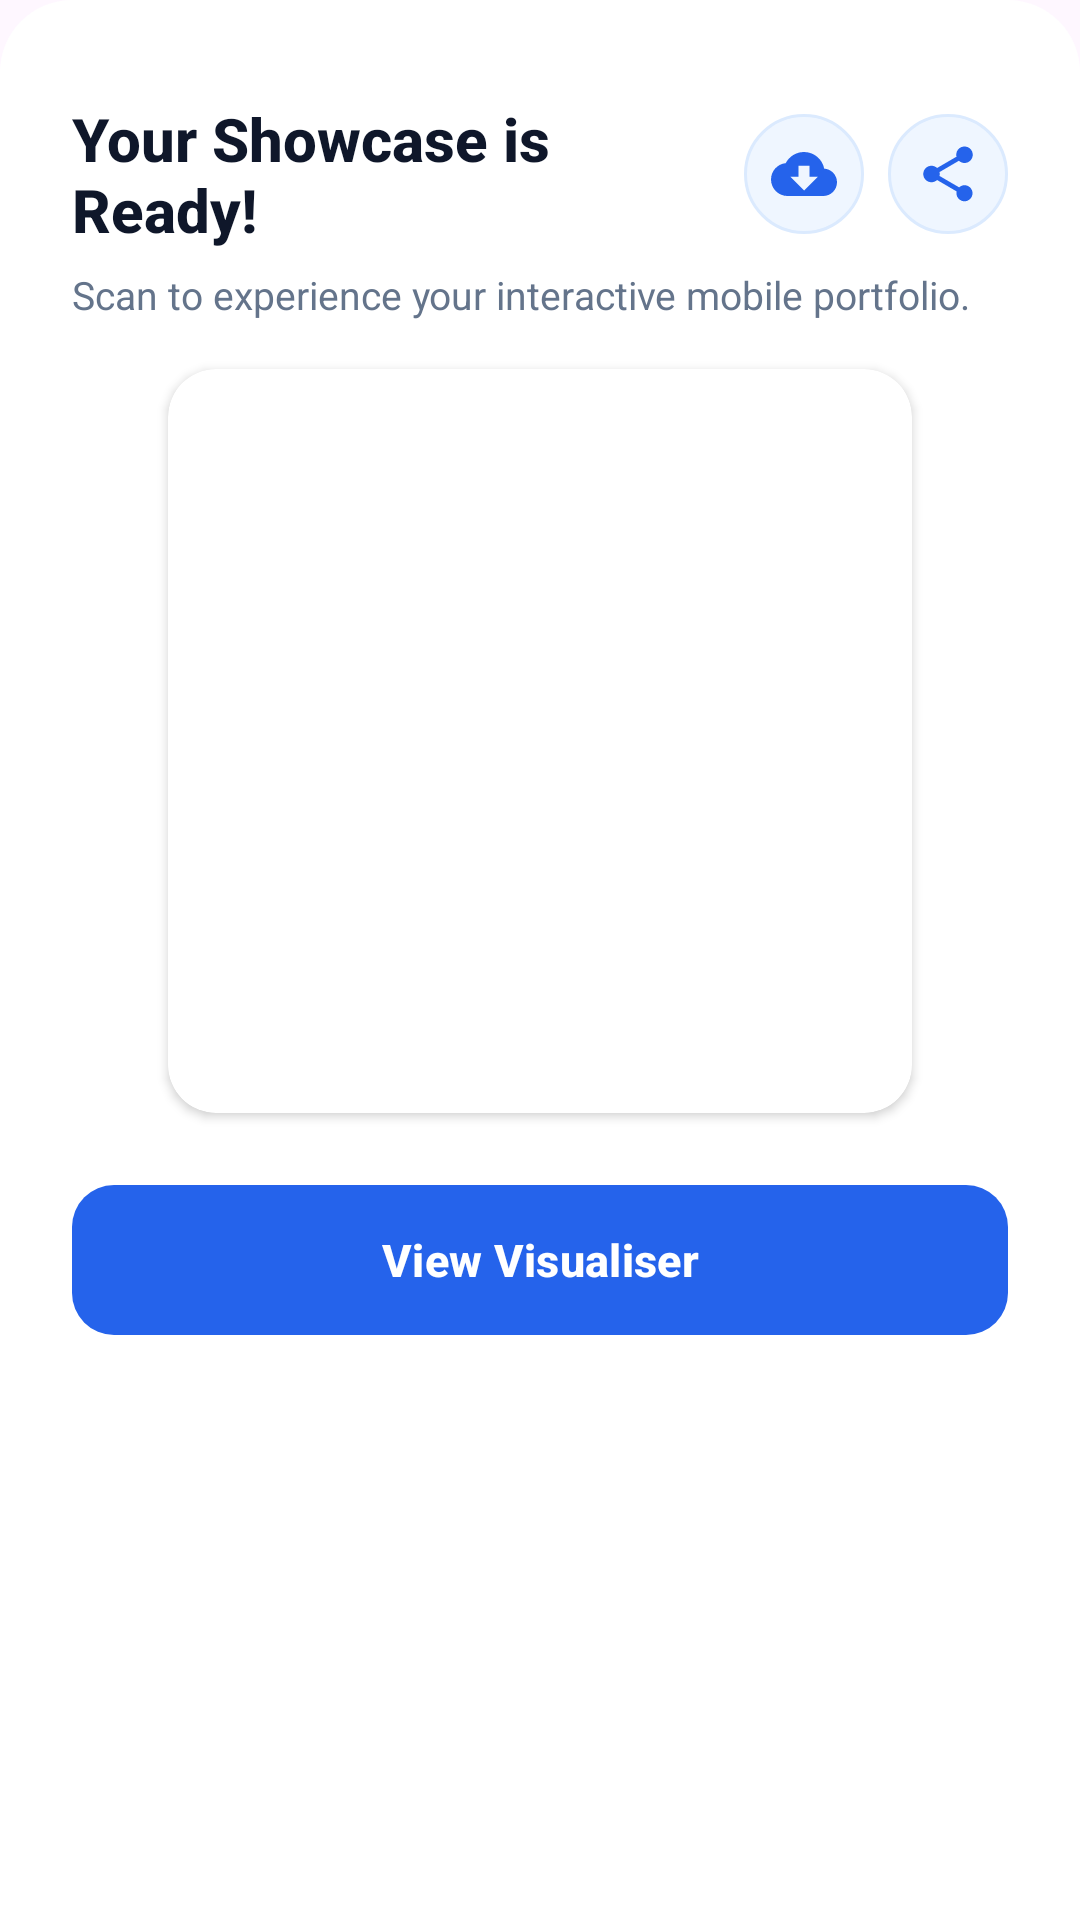

Icons on this 1080x1920 Android screen, each with its box as (x1, y1, x2, y2):
Save QR to Gallery: (744, 114, 864, 234)
Share QR Code: (888, 114, 1008, 234)
